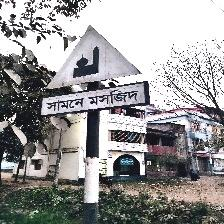Mosque in front: (43, 25, 147, 116)
